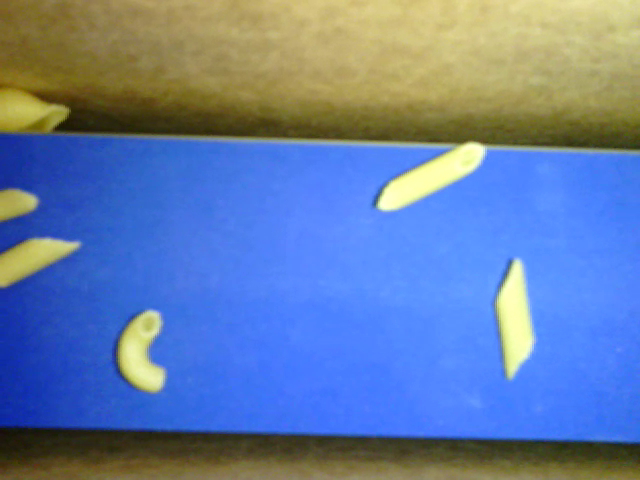elbow: (110, 301, 168, 395)
penne: (374, 138, 489, 209), (494, 254, 533, 378), (1, 238, 84, 292), (1, 188, 39, 224)
shell: (1, 83, 72, 138)
